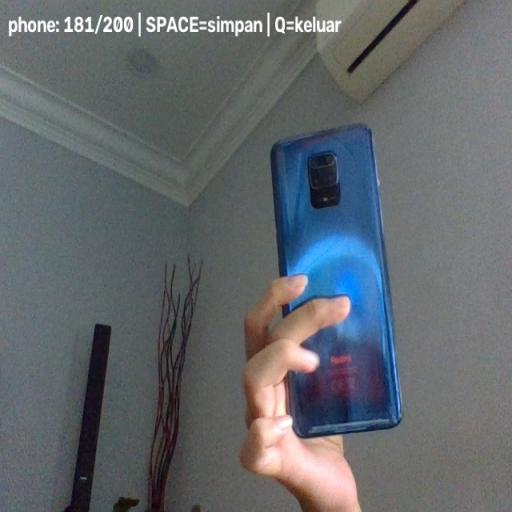Phone: (270, 122, 402, 438)
